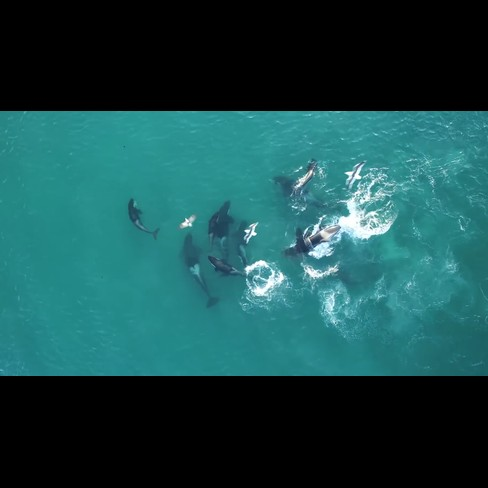orca: (178, 231, 226, 315), (279, 222, 347, 257), (120, 191, 161, 241), (206, 252, 259, 284), (291, 154, 328, 197), (203, 206, 231, 247)
